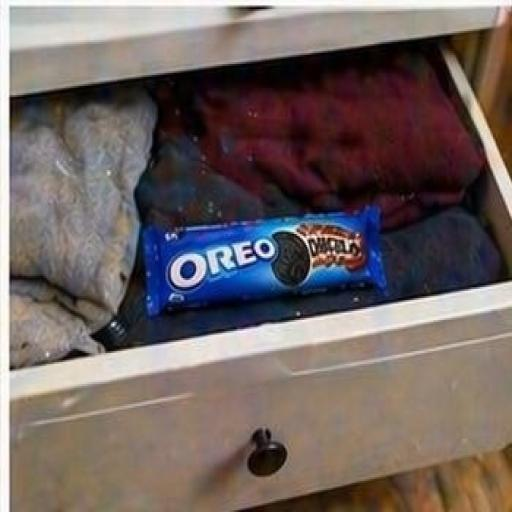oreo: (86, 177, 420, 360)
